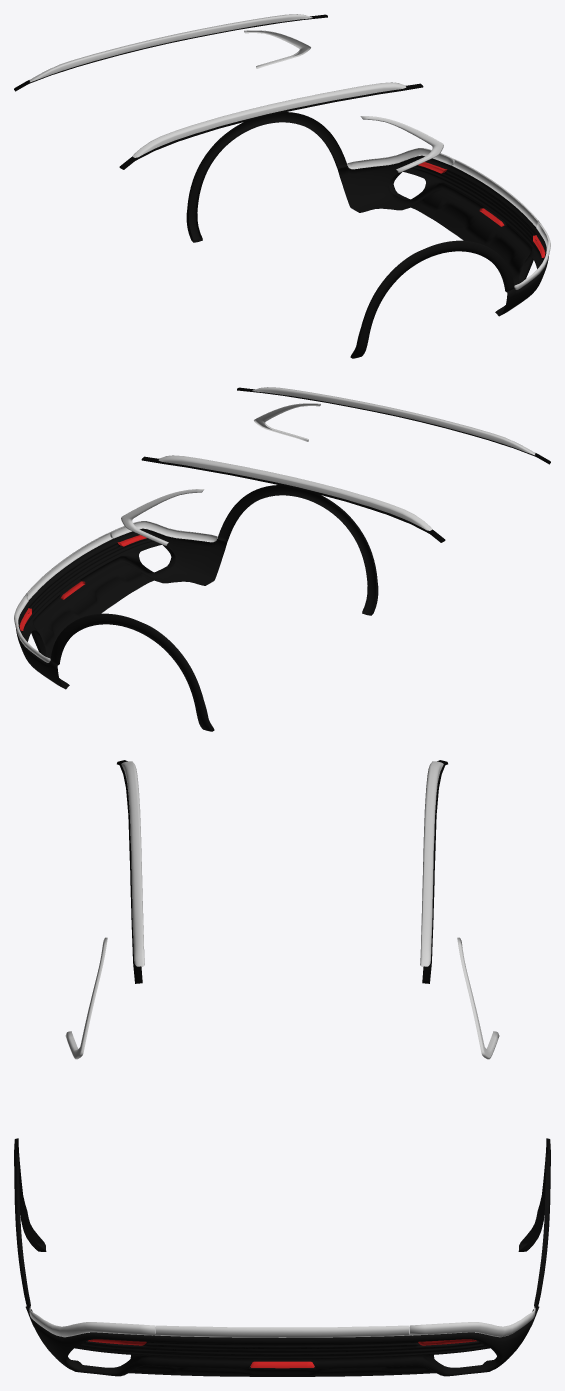
The model's file is SM_Car_Ding_1.FBX.
3 views of the same model, one above another, from view 1: azimuth 30°, elevation 25°; view 2: azimuth 150°, elevation 25°; view 3: azimuth 270°, elevation 25° (orthographic). The views are drawn at different scales.
Parts seen in each view (by area): view 1: polySurface3375; view 2: polySurface3375; view 3: polySurface3375.
Boxes of the visible parts, bbox=[...] form: polySurface3375: bbox=[14, 14, 550, 358]; polySurface3375: bbox=[14, 387, 550, 731]; polySurface3375: bbox=[14, 760, 550, 1376].
Bounding box in the file's own units: 268 × 143 × 190.
